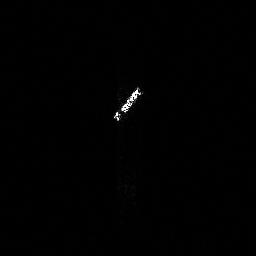ship: (114, 86, 141, 121)
